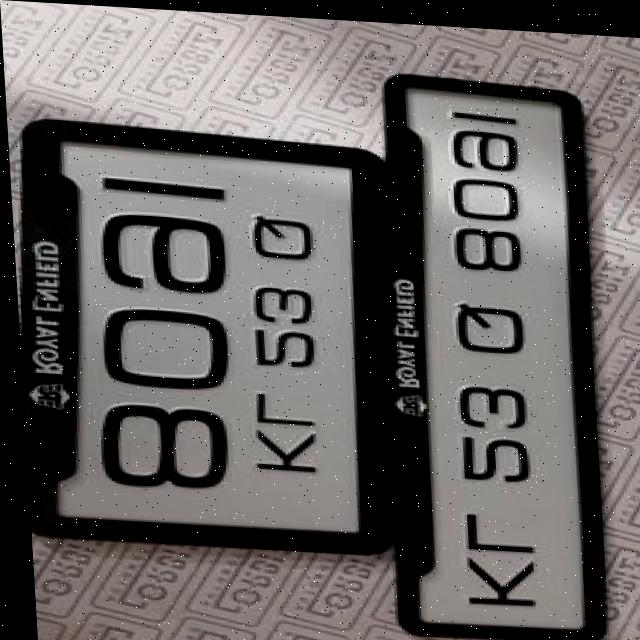plate: (6, 117, 403, 557), (366, 68, 610, 640)
